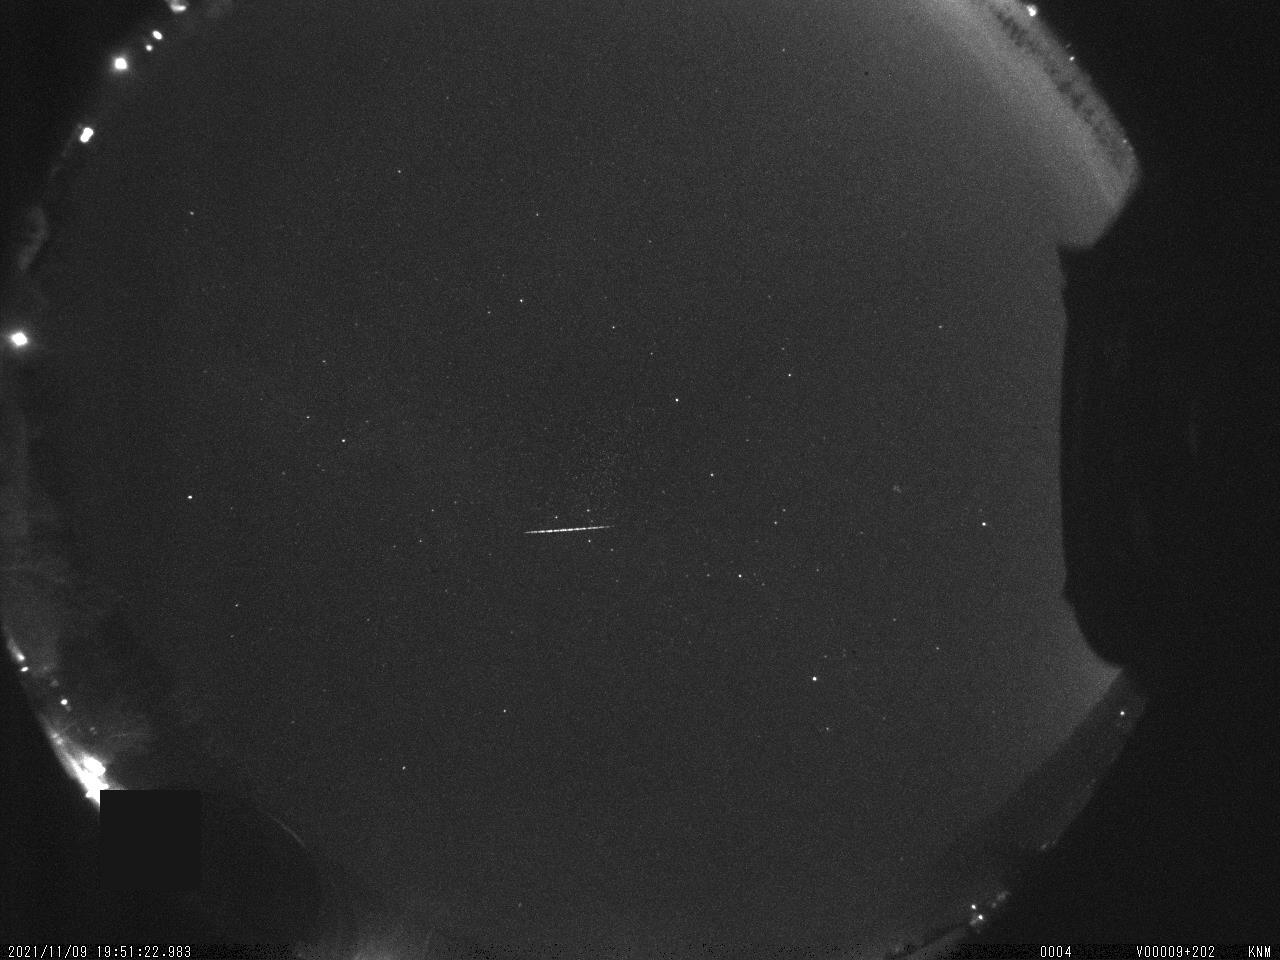meteor: (514, 519, 622, 541)
